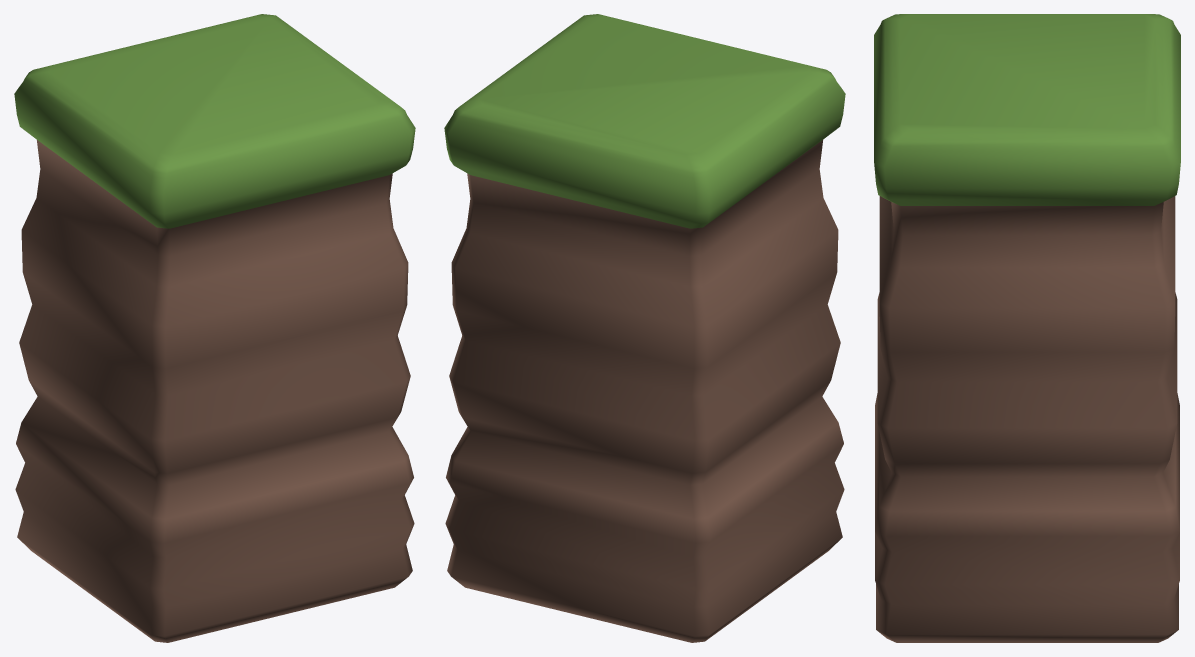
File: Platform _huge.fbx
3 renders of one model, left to right at view 1: azimuth 30°, elevation 25°; view 2: azimuth 150°, elevation 25°; view 3: azimuth 270°, elevation 25°, orthographic. The views are drawn at different scales.
Visible parts, largest first — view 1: Platform_huge; view 2: Platform_huge; view 3: Platform_huge.
Boxes of the visible parts, x1,y1,x2,y2 form: Platform_huge: (14,14,415,642); Platform_huge: (444,14,845,642); Platform_huge: (874,14,1180,642).
Size of the model in its own units: 3.67 by 6.34 by 3.47.
